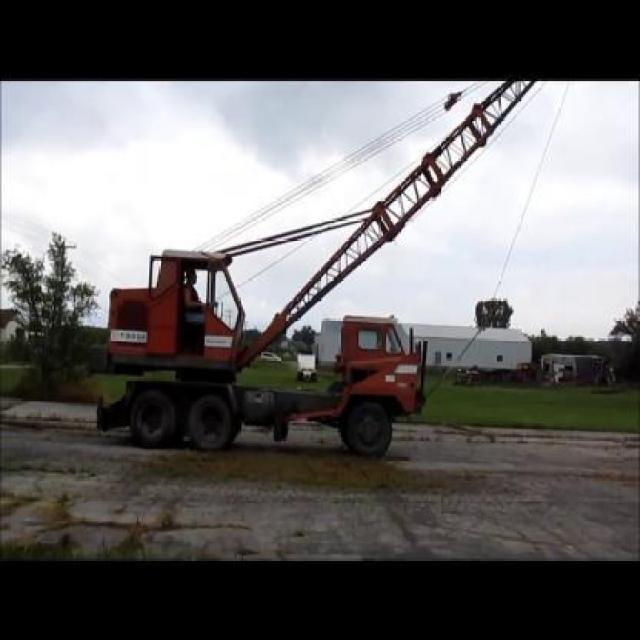Mobile Crane: (91, 81, 540, 453)
